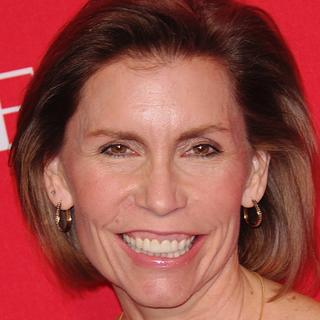eye: (174, 138, 226, 164), (94, 138, 143, 163)
